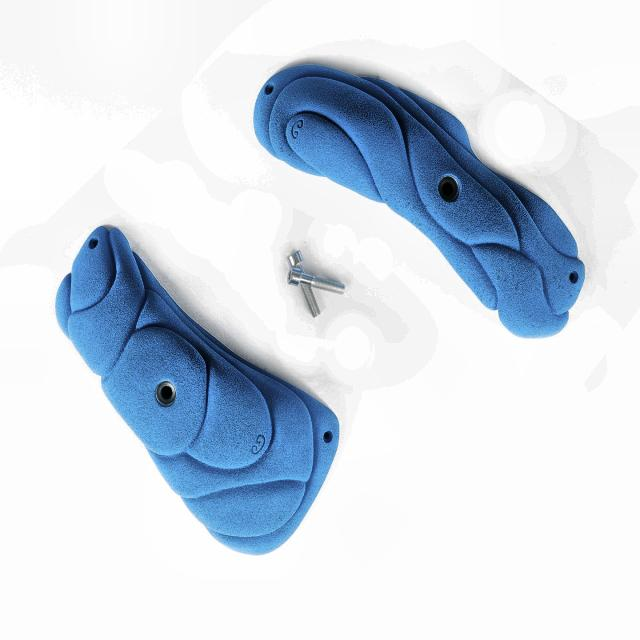Hold: (44, 227, 340, 557), (256, 65, 582, 341)
